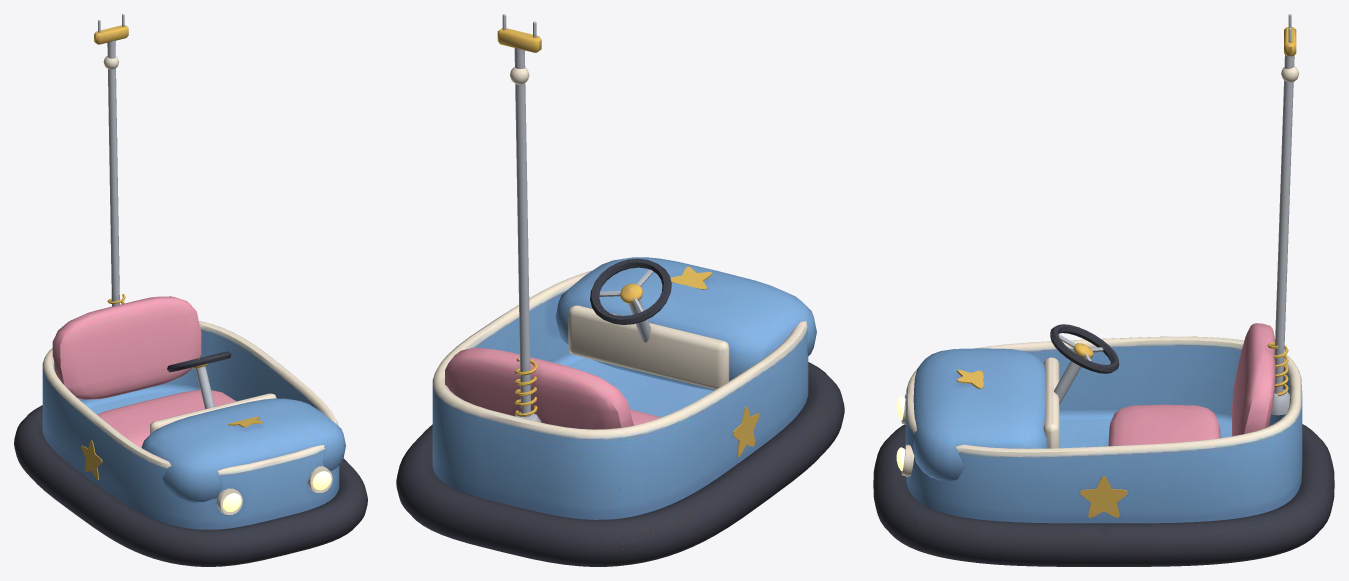
The model's file is coche_choque.glb.
The picture shows the model from 3 angles, left to right: view 1: azimuth 30°, elevation 25°; view 2: azimuth 150°, elevation 25°; view 3: azimuth 270°, elevation 25°; orthographic projection. The views are drawn at different scales.
Visible parts, largest first — view 1: bumper-car_body; view 2: bumper-car_body; view 3: bumper-car_body.
Part boxes in pixels (x1=…): bumper-car_body: x1=14, y1=14, x2=367, y2=566; bumper-car_body: x1=396, y1=14, x2=844, y2=566; bumper-car_body: x1=873, y1=14, x2=1334, y2=566.
Bounding box in the file's own units: 1.64 × 2.75 × 2.28.
2 materials, 1 textured.
